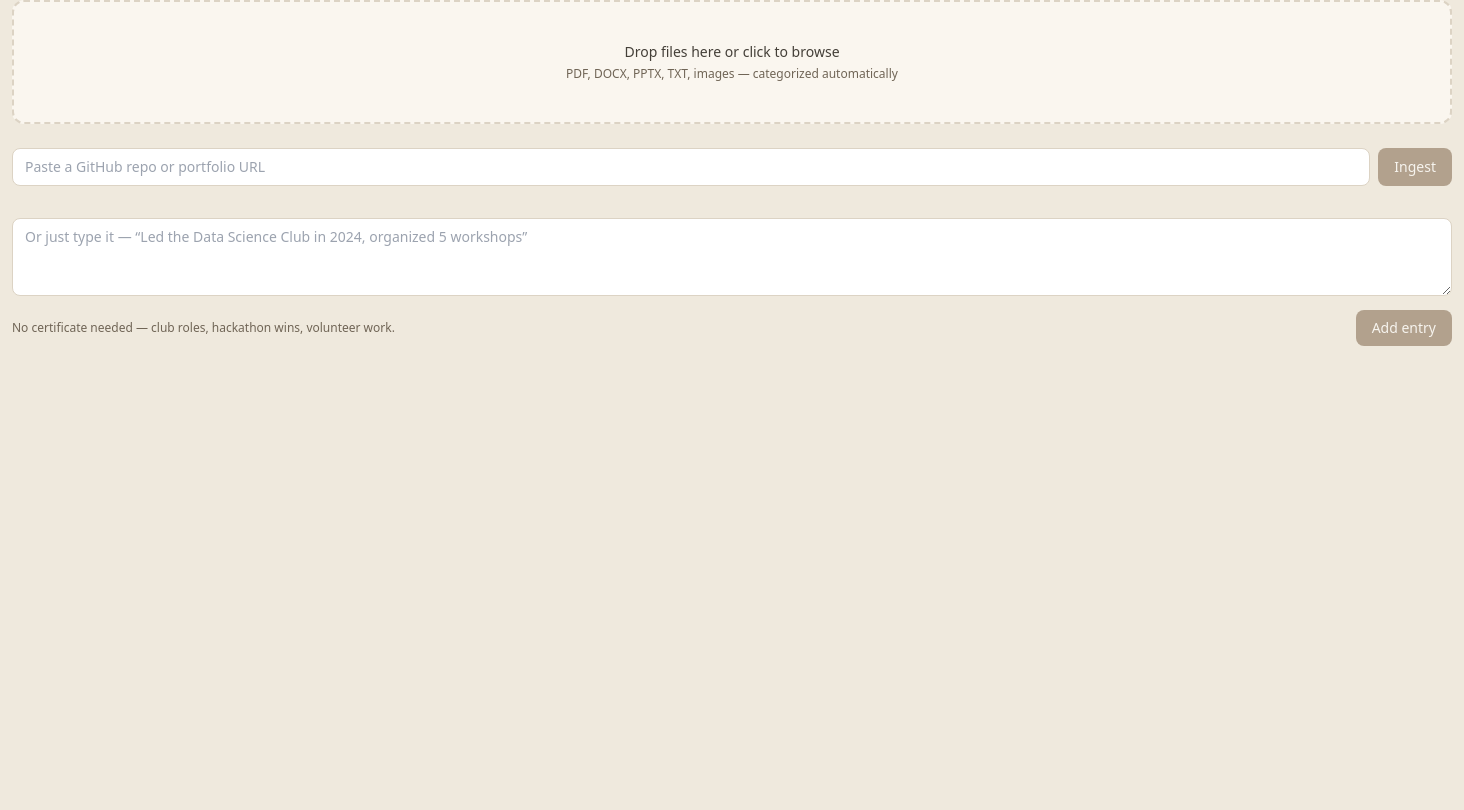
Test: Upload dispatches GitHub results to GitHubCard › renders a github-typed URL result as a GitHubCard
Type "https://github.com/octocat/Hello-World" into the field with placeholder "Paste a GitHub repo or portfolio URL" at (691, 167), box [12,148,1370,186]
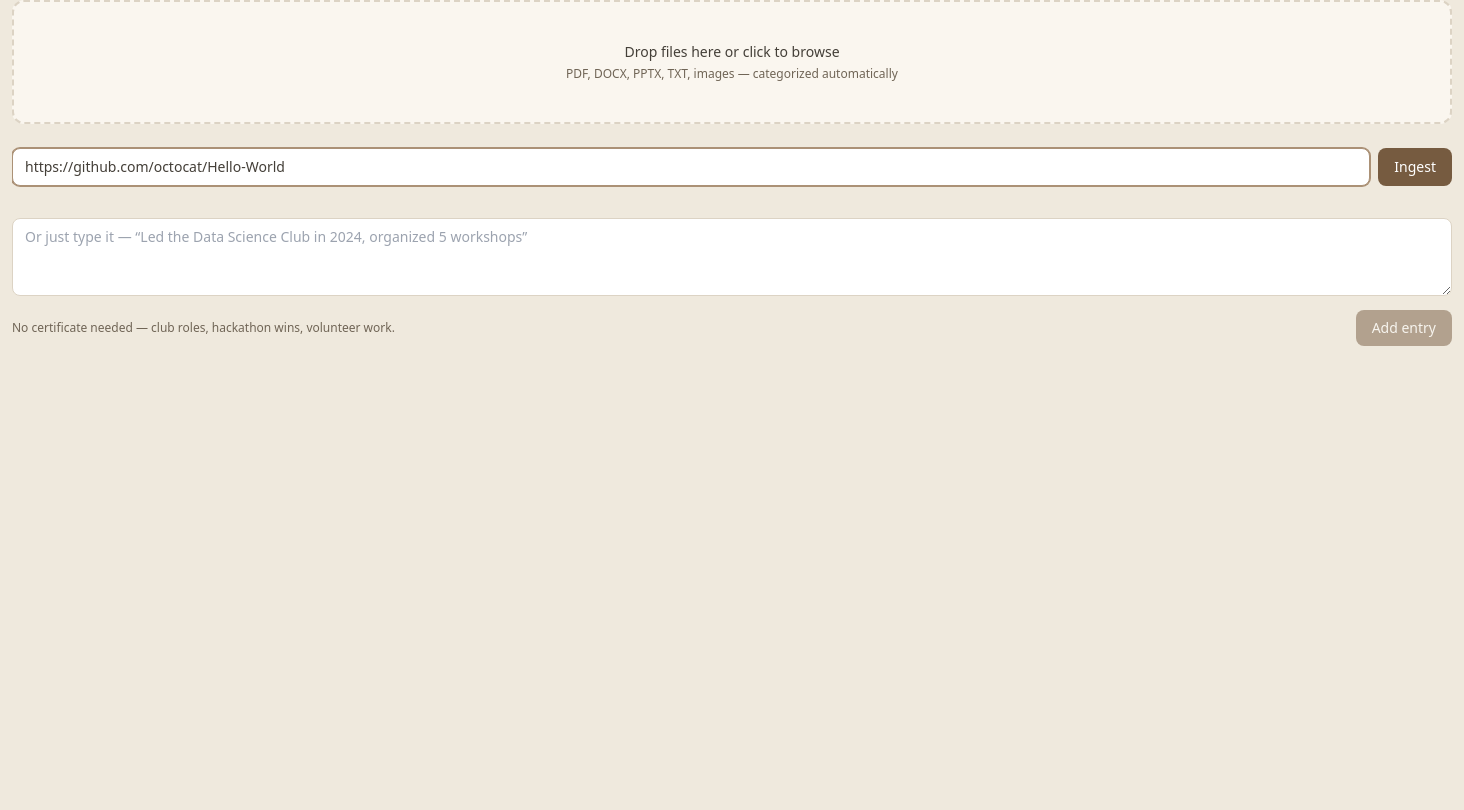
Click the button "Ingest" at (1415, 167), box [1378,148,1452,186]
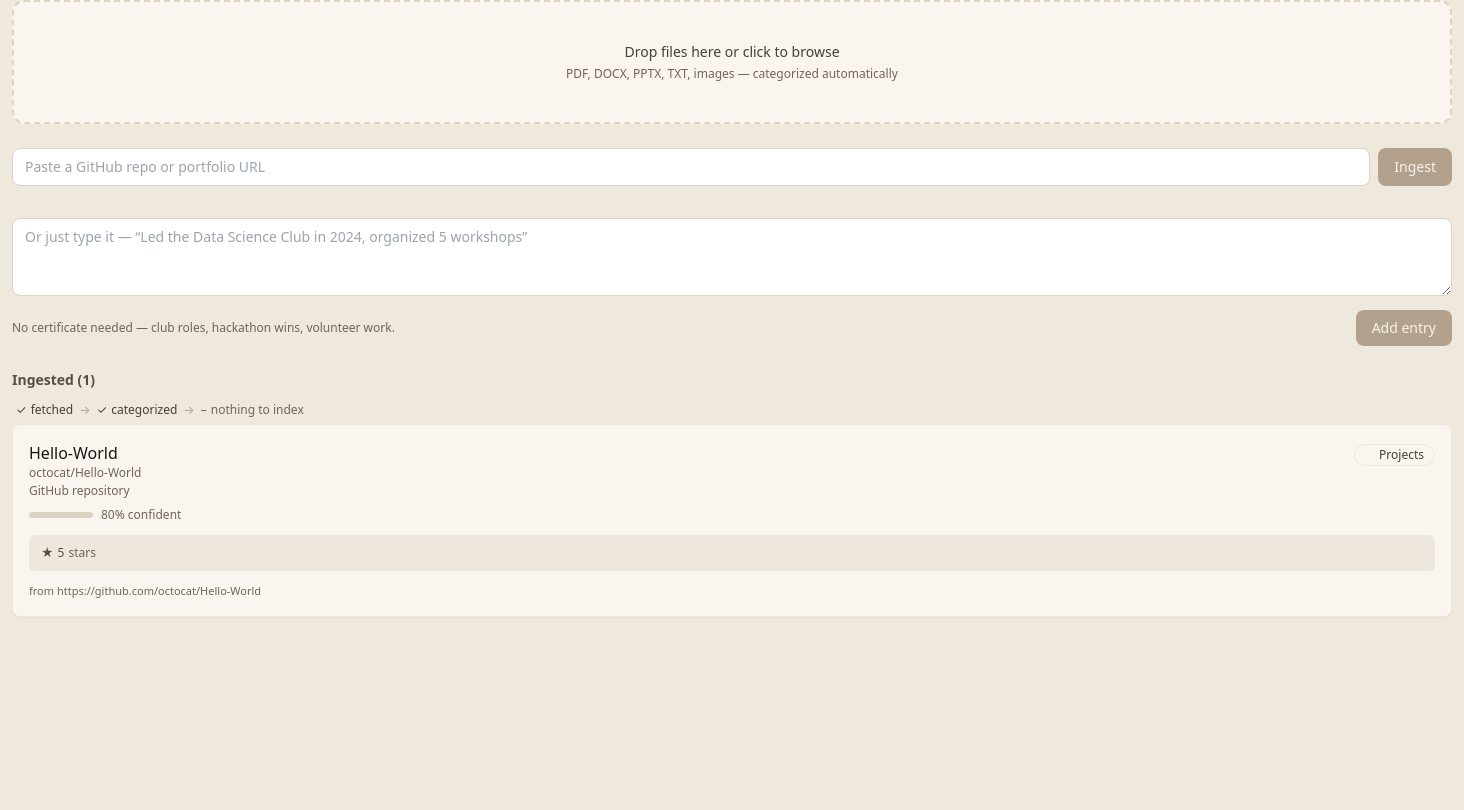
Expected: the text "GitHub repository" is shown, [29,483,142,499]
